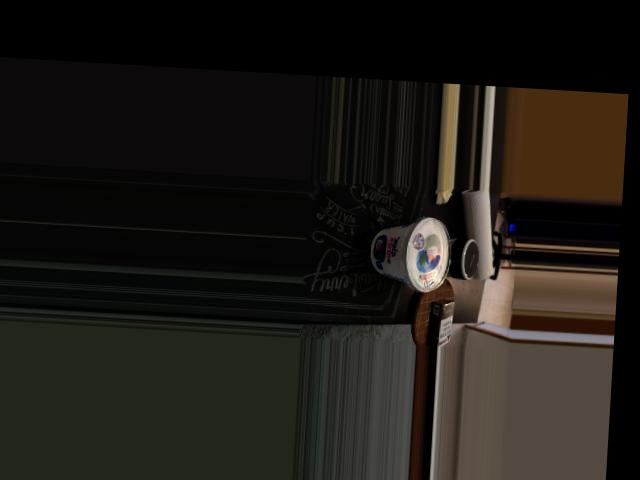cotage: (363, 213, 454, 289)
